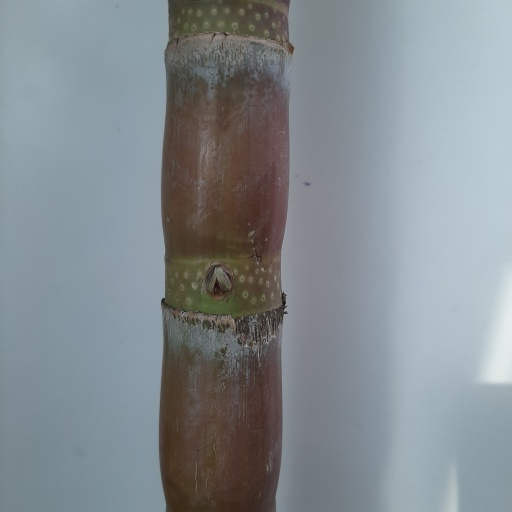Bud: (201, 264, 231, 299)
